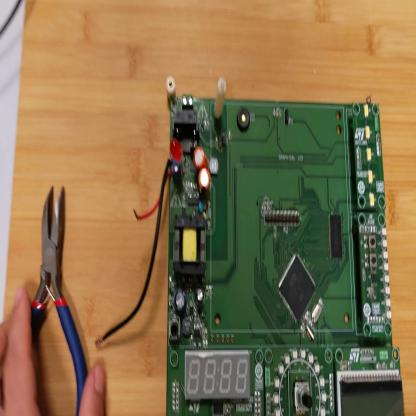hand: (2, 286, 108, 415)
low voltage board: (97, 96, 405, 416)
pliers: (33, 190, 91, 416)
working area: (4, 2, 416, 414)
